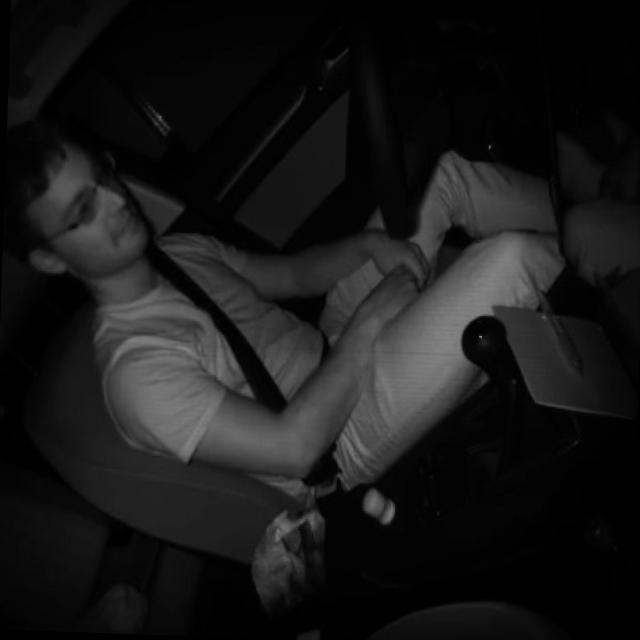pen: (532, 279, 590, 382)
